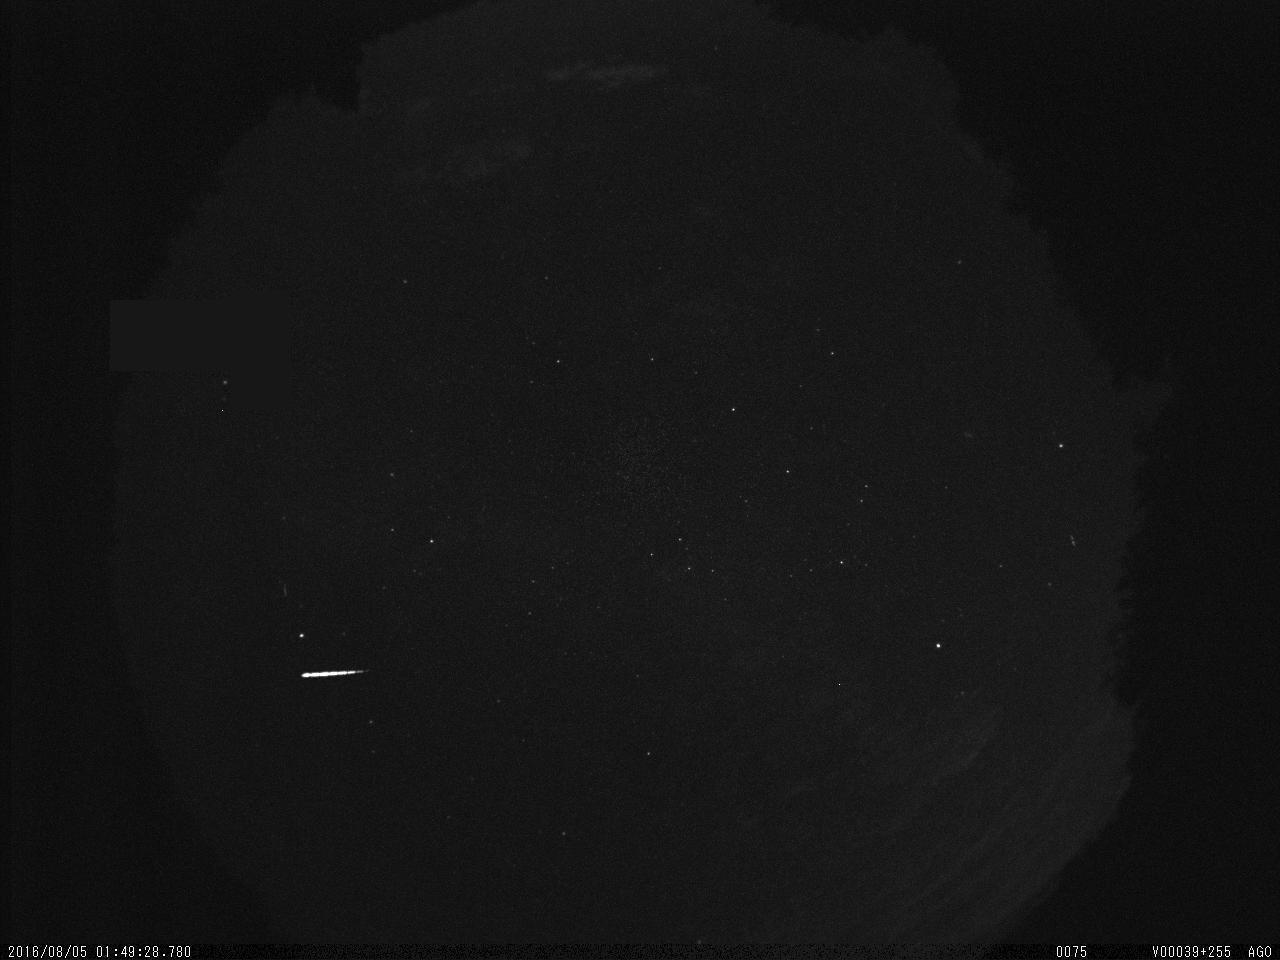meteor: (291, 666, 374, 684)
